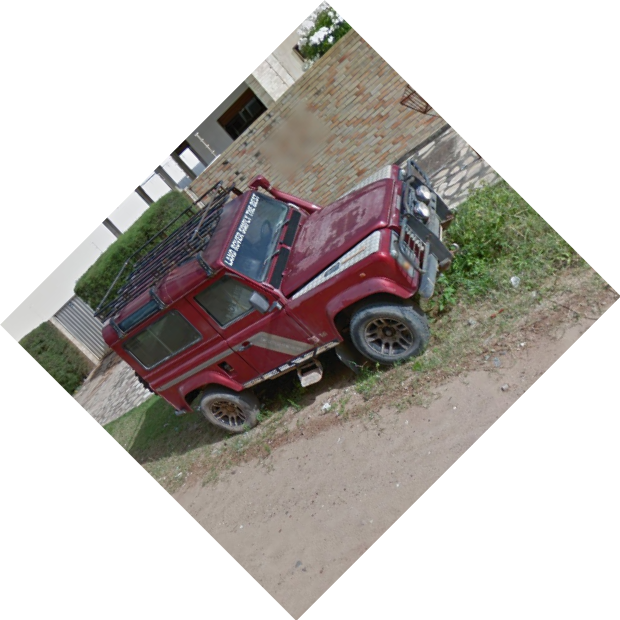car: (92, 158, 455, 438)
